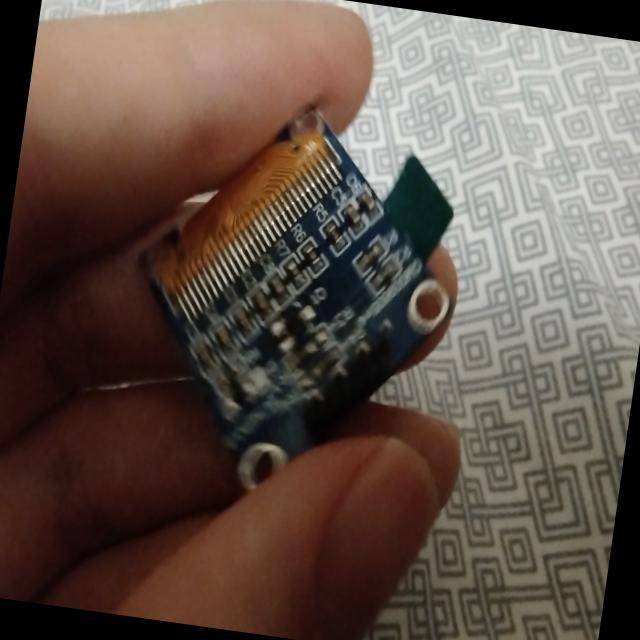oled: (113, 81, 482, 541)
